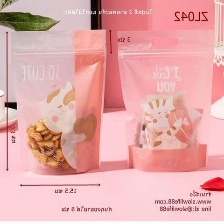snack: (113, 24, 219, 176), (6, 25, 111, 178)
